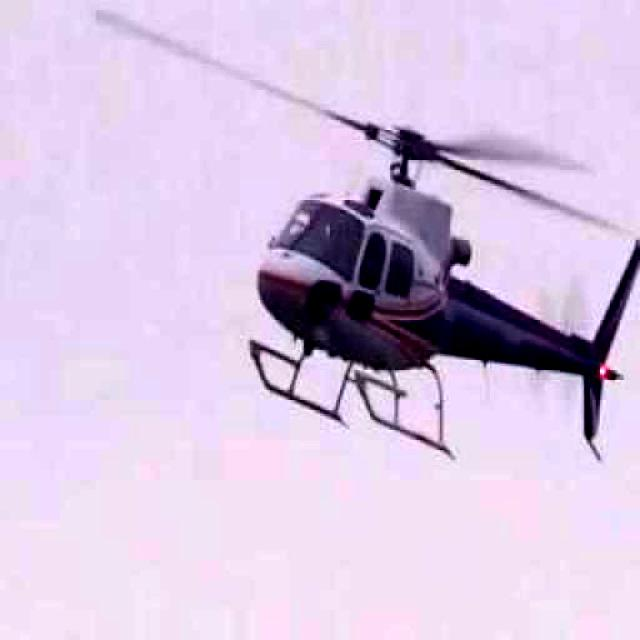drone: (119, 12, 640, 496)
